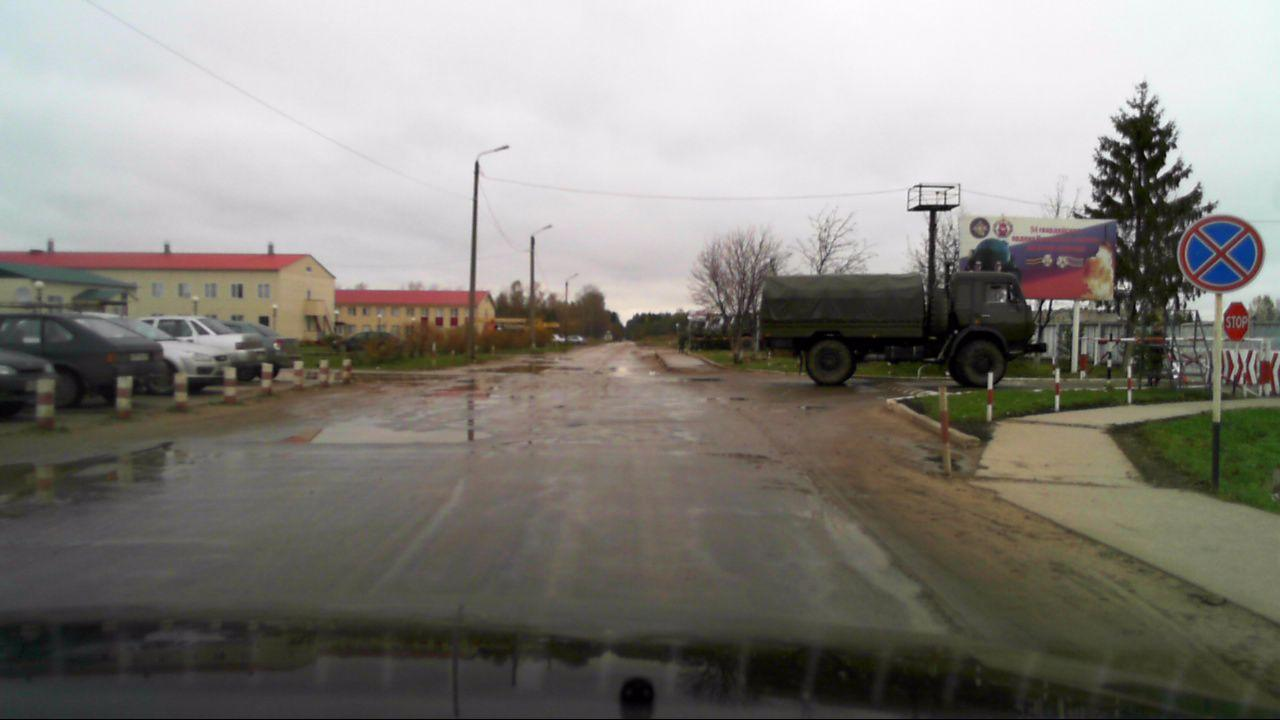2_5: (1222, 301, 1251, 344)
3_27: (1177, 212, 1264, 293)
